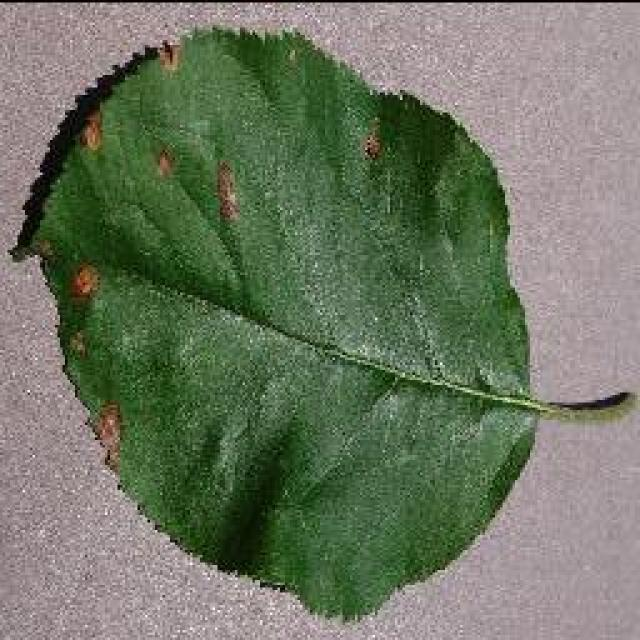Black_rot: (8, 23, 638, 625)
